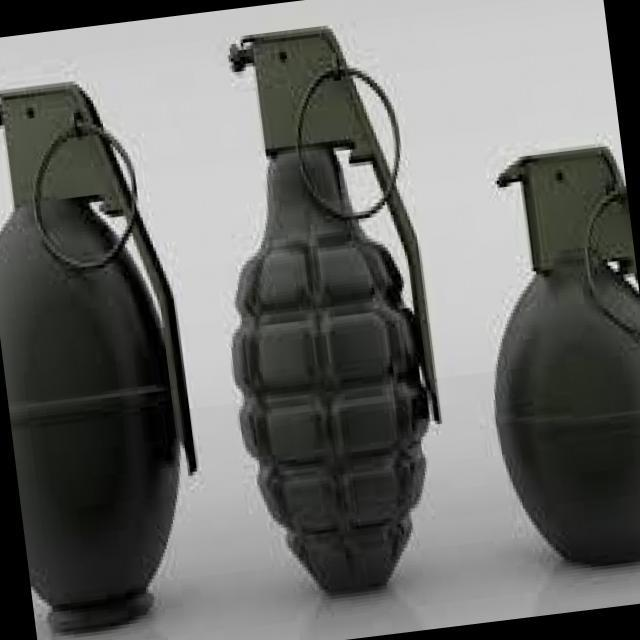grenade: (182, 5, 476, 612), (0, 52, 218, 640), (461, 131, 640, 584)
